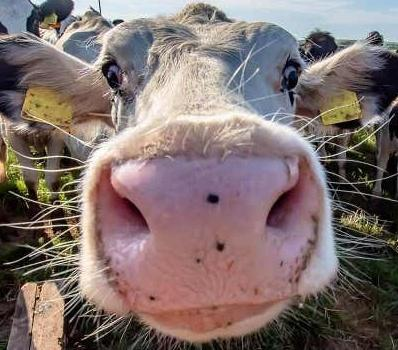muzzles: (91, 150, 316, 312)
